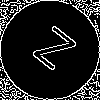Z: (25, 25, 78, 80)
